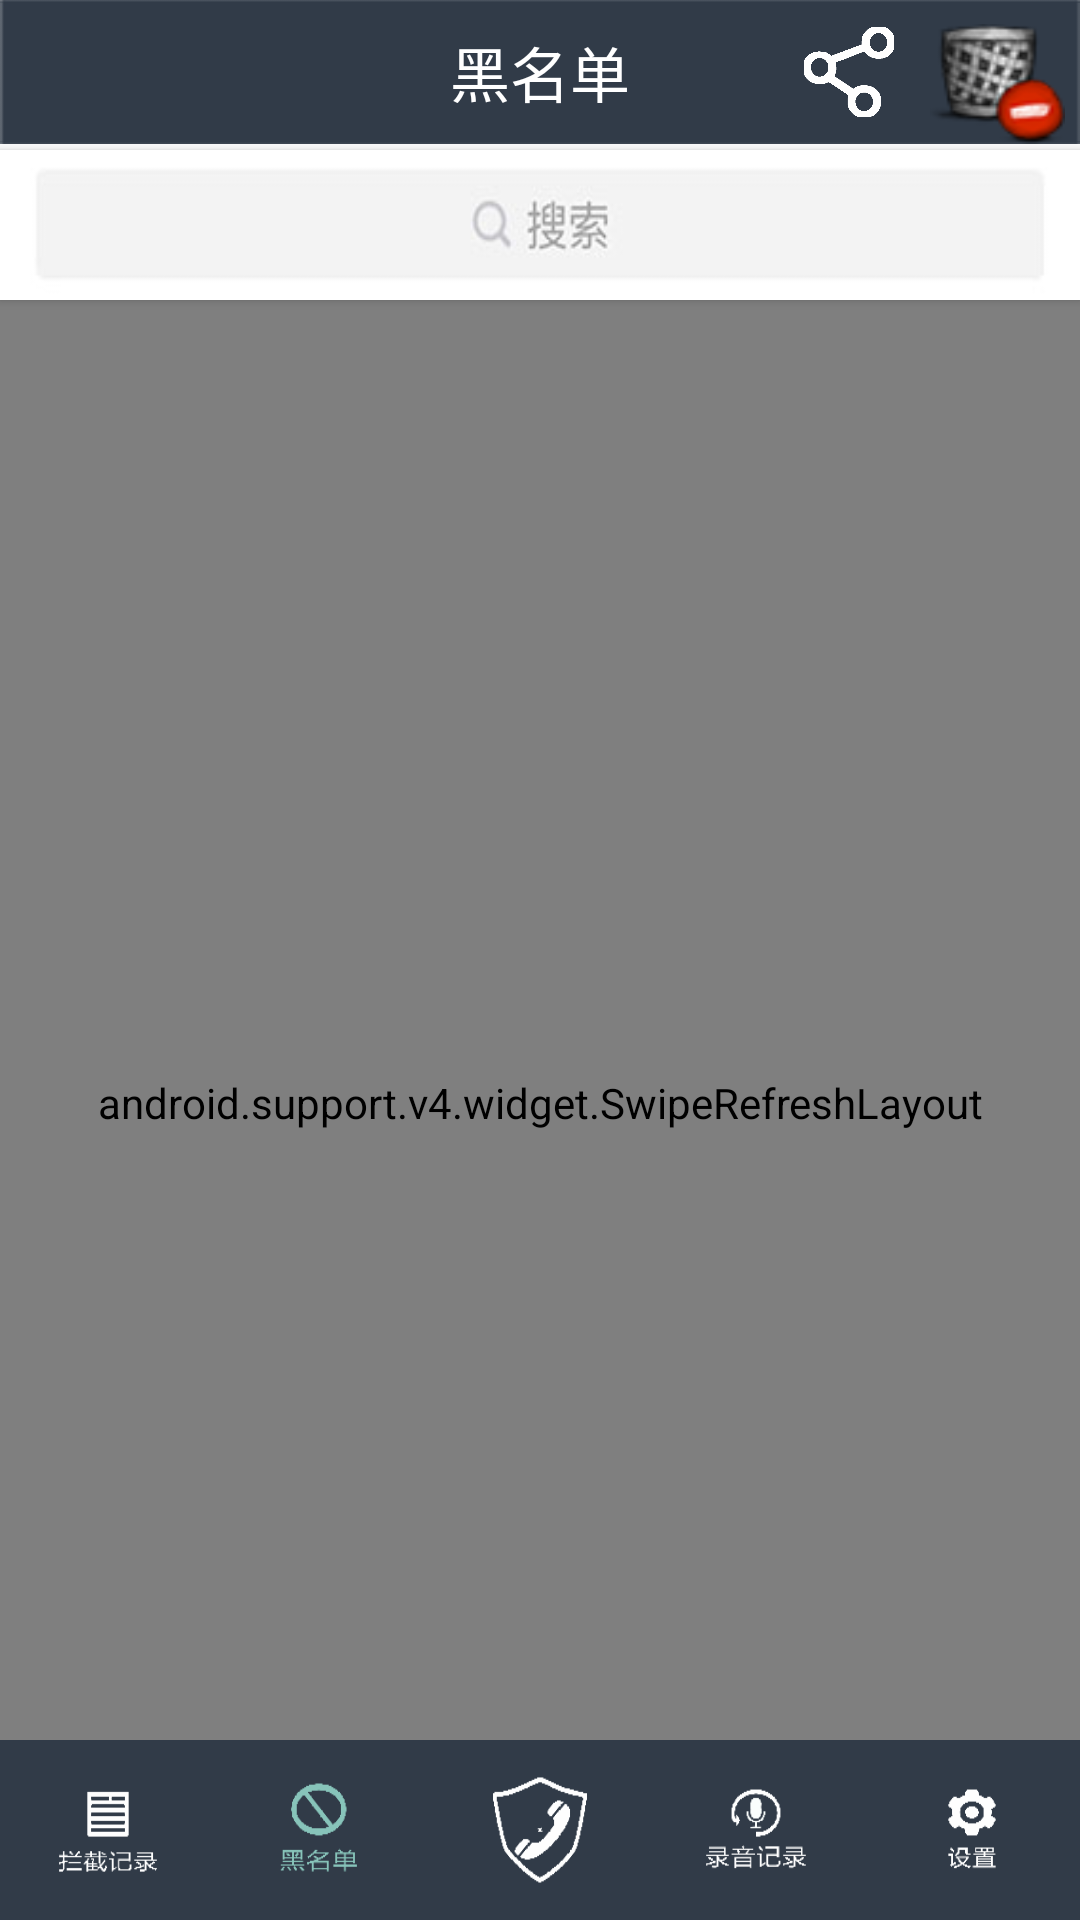

Point at icon controls on the screen. Image size 1080 × 1920, points as (x=x, y=y).
delete all: (x=1003, y=84)
shareall: (x=849, y=72)
